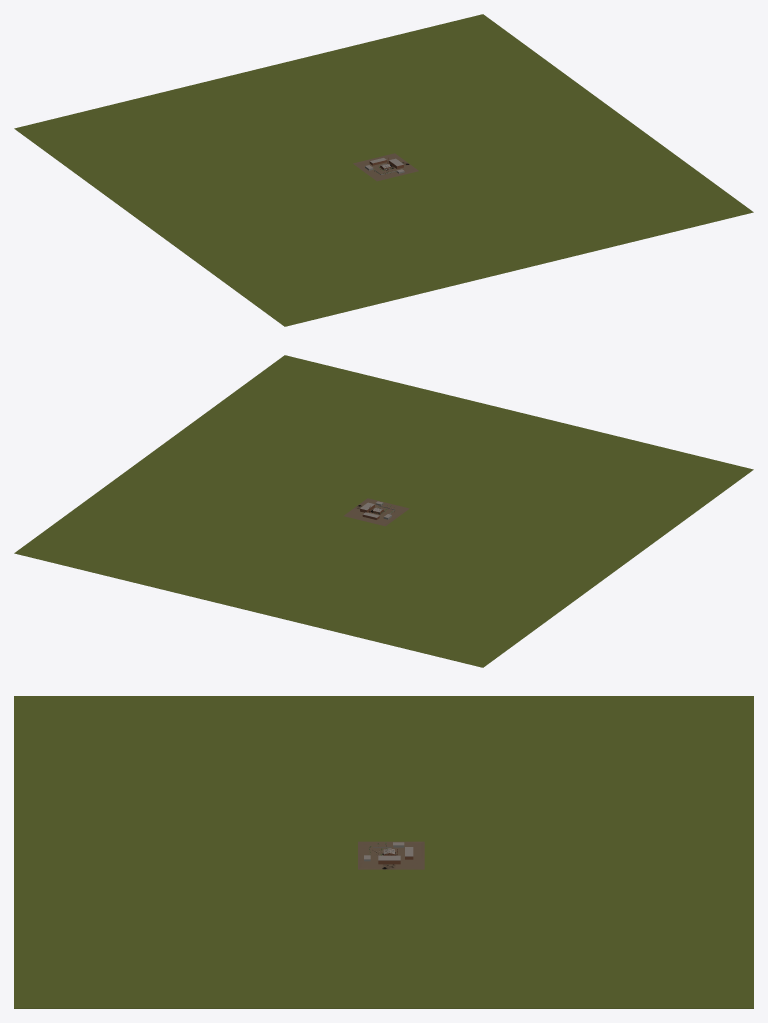
Rendered from factory.glb.
3 renders of one model, top to bottom at view 1: azimuth 30°, elevation 25°; view 2: azimuth 150°, elevation 25°; view 3: azimuth 270°, elevation 25°, orthographic. The views are drawn at different scales.
Visible parts, largest first — view 1: ground, ground_003, ground_001, ground_002; view 2: ground, ground_003, ground_001, ground_002; view 3: ground, ground_003, ground_001, ground_002, ground_near_004.
Boxes of the visible parts, x1,y1,x2,y2 form: ground: [159, 120, 753, 326]; ground_003: [14, 14, 602, 216]; ground_001: [135, 163, 376, 234]; ground_002: [395, 102, 627, 170]; ground: [159, 355, 753, 561]; ground_003: [14, 465, 603, 667]; ground_001: [386, 508, 627, 579]; ground_002: [135, 447, 367, 515]; ground: [14, 696, 357, 1008]; ground_003: [424, 696, 753, 1008]; ground_001: [358, 696, 424, 841]; ground_002: [358, 869, 424, 1008]; ground_near_004: [358, 859, 424, 869].
Size of the model in its own units: 2000 by 28.81 by 2000.
